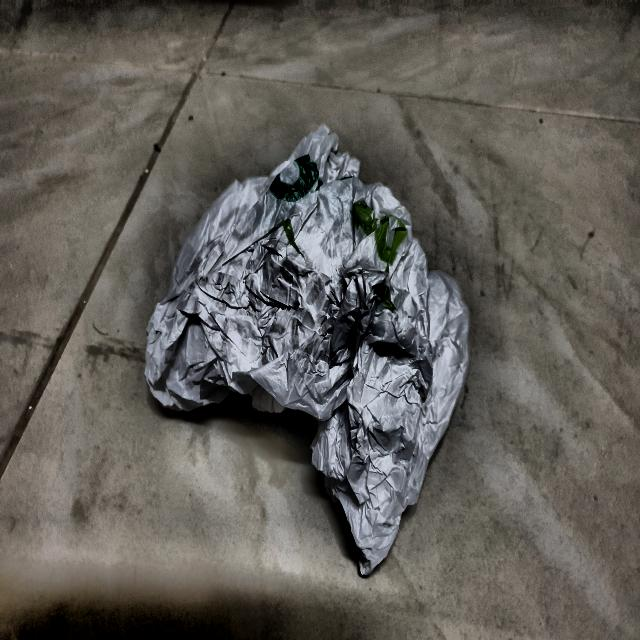plastic bag: (132, 115, 476, 588)
